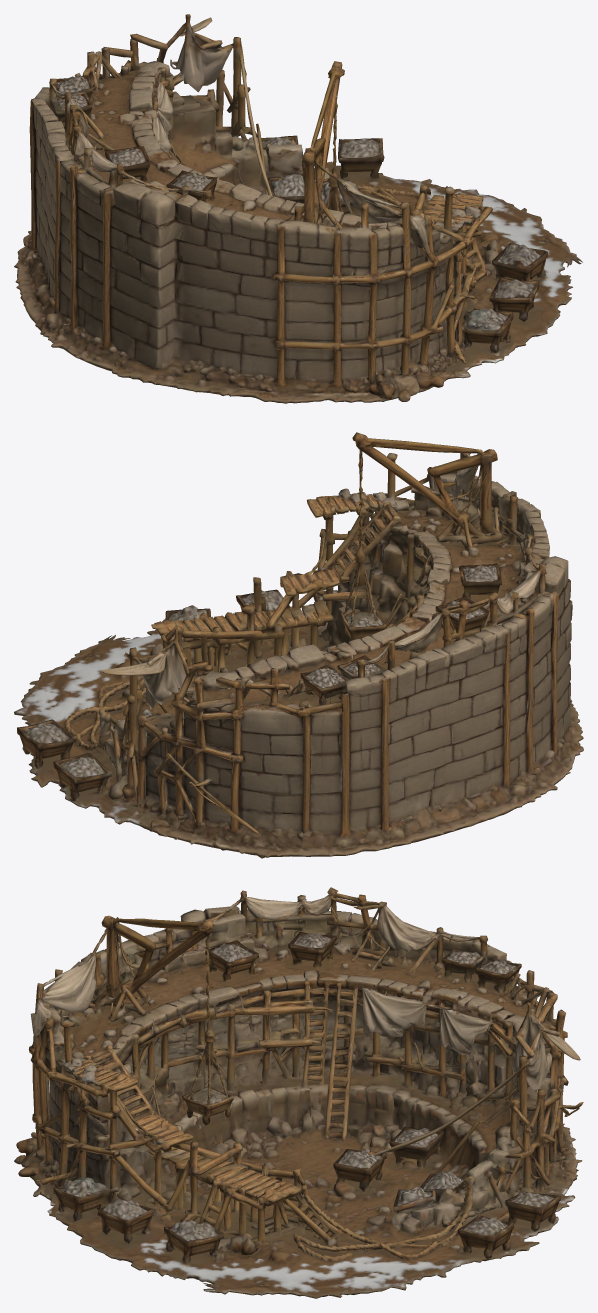
File: tripo_convert_b0172b86-5b7e-4883-a951-32634129ca86.fbx
3 views of the same model, one above another, from view 1: azimuth 30°, elevation 25°; view 2: azimuth 150°, elevation 25°; view 3: azimuth 270°, elevation 25° (orthographic). The views are drawn at different scales.
Parts seen in each view (by area): view 1: tripo_node_b0172b86; view 2: tripo_node_b0172b86; view 3: tripo_node_b0172b86.
Part boxes in pixels (<box>): tripo_node_b0172b86: <box>14,14,582,403</box>; tripo_node_b0172b86: <box>14,432,583,858</box>; tripo_node_b0172b86: <box>14,887,583,1298</box>.
Bounding box in the file's own units: 0.9756 × 0.4926 × 0.9857.
1 material, 1 textured.
